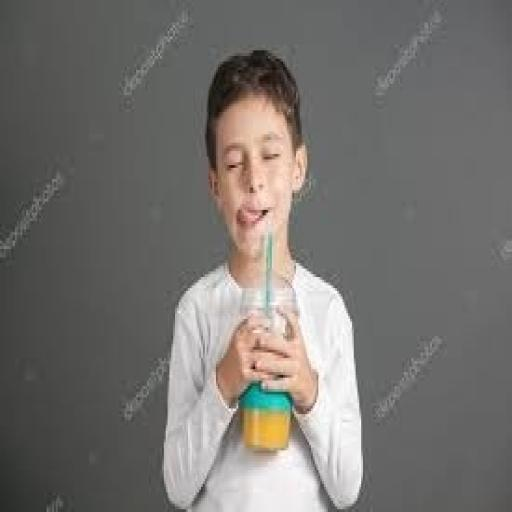drinking: (236, 226, 296, 450)
